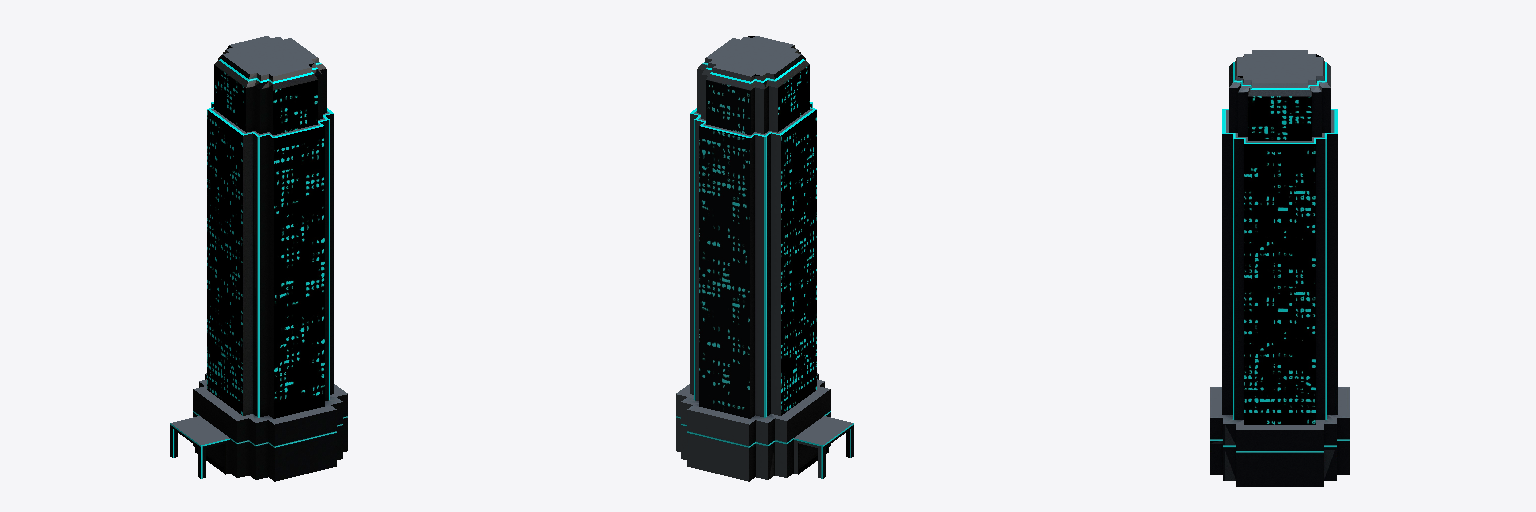
3 renders of one model, left to right at view 1: azimuth 30°, elevation 25°; view 2: azimuth 150°, elevation 25°; view 3: azimuth 270°, elevation 25°, orthographic.
Visible parts, largest first — view 1: Cube.005; view 2: Cube.005; view 3: Cube.005.
Boxes of the visible parts, x1=… form: Cube.005: x1=170, y1=36, x2=347, y2=481; Cube.005: x1=676, y1=36, x2=853, y2=481; Cube.005: x1=1210, y1=50, x2=1349, y2=486.
Size of the model in its own units: 31.78 by 84.6 by 27.2.
2 materials, 1 textured.